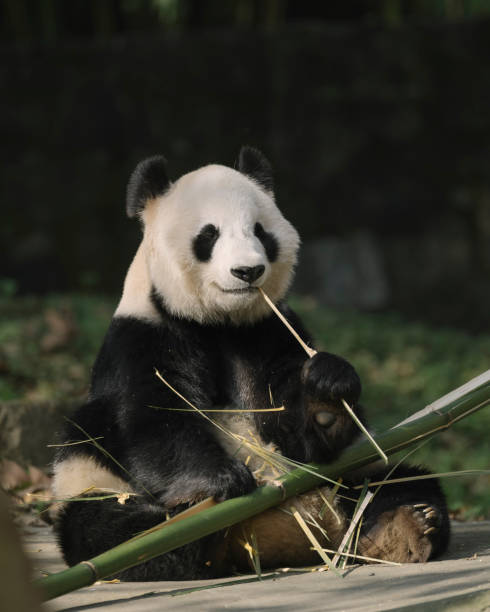panda: (116, 137, 327, 360)
